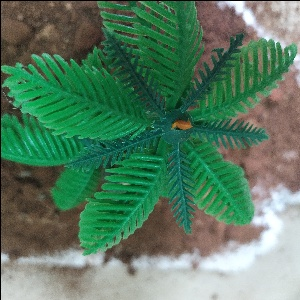plant: (1, 1, 300, 248)
